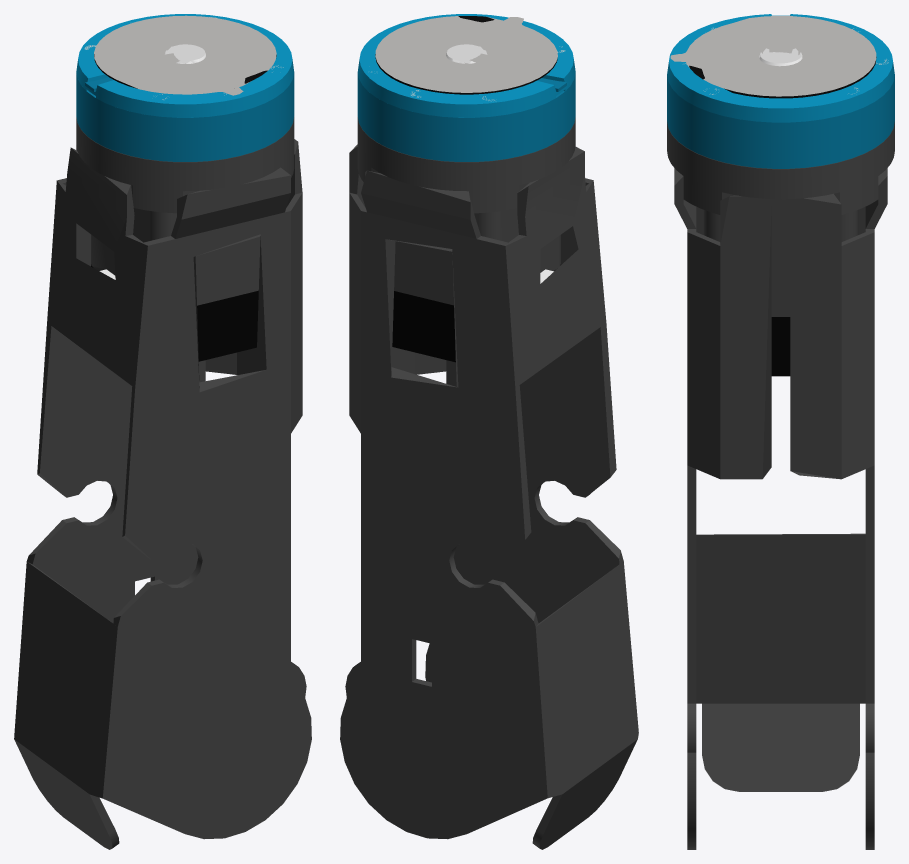
File: r_upperarm_link.dae
3 views of the same model, side by side, from view 1: azimuth 30°, elevation 25°; view 2: azimuth 150°, elevation 25°; view 3: azimuth 270°, elevation 25° (orthographic). The views are drawn at different scales.
Visible parts, largest first — view 1: FBXASC227FBXASC130FBXASC189FBXASC227FBXASC131FBXASC170FBXASC (×7); view 2: FBXASC227FBXASC130FBXASC189FBXASC227FBXASC131FBXASC170FBXASC (×7); view 3: FBXASC227FBXASC130FBXASC189FBXASC227FBXASC131FBXASC170FBXASC (×7).
Boxes of the visible parts, x1,y1,x2,y2 form: FBXASC227FBXASC130FBXASC189FBXASC227FBXASC131FBXASC170FBXASC (×7): (14,14,311,849); FBXASC227FBXASC130FBXASC189FBXASC227FBXASC131FBXASC170FBXASC (×7): (340,14,638,849); FBXASC227FBXASC130FBXASC189FBXASC227FBXASC131FBXASC170FBXASC (×7): (667,14,894,849).
Bounding box in the file's own units: 0.0749 × 0.062 × 0.2369.
